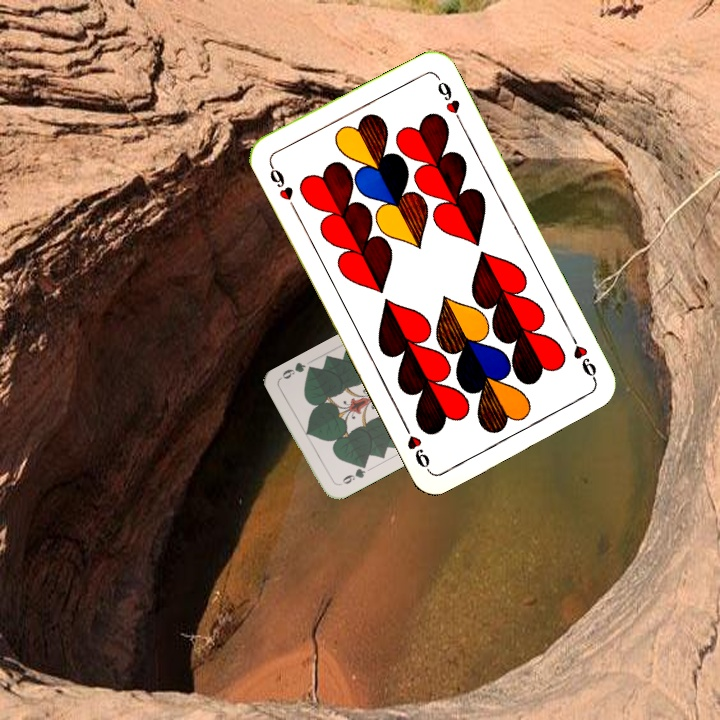G9: (334, 460, 369, 488)
H9: (265, 159, 299, 214), (566, 331, 599, 386)
